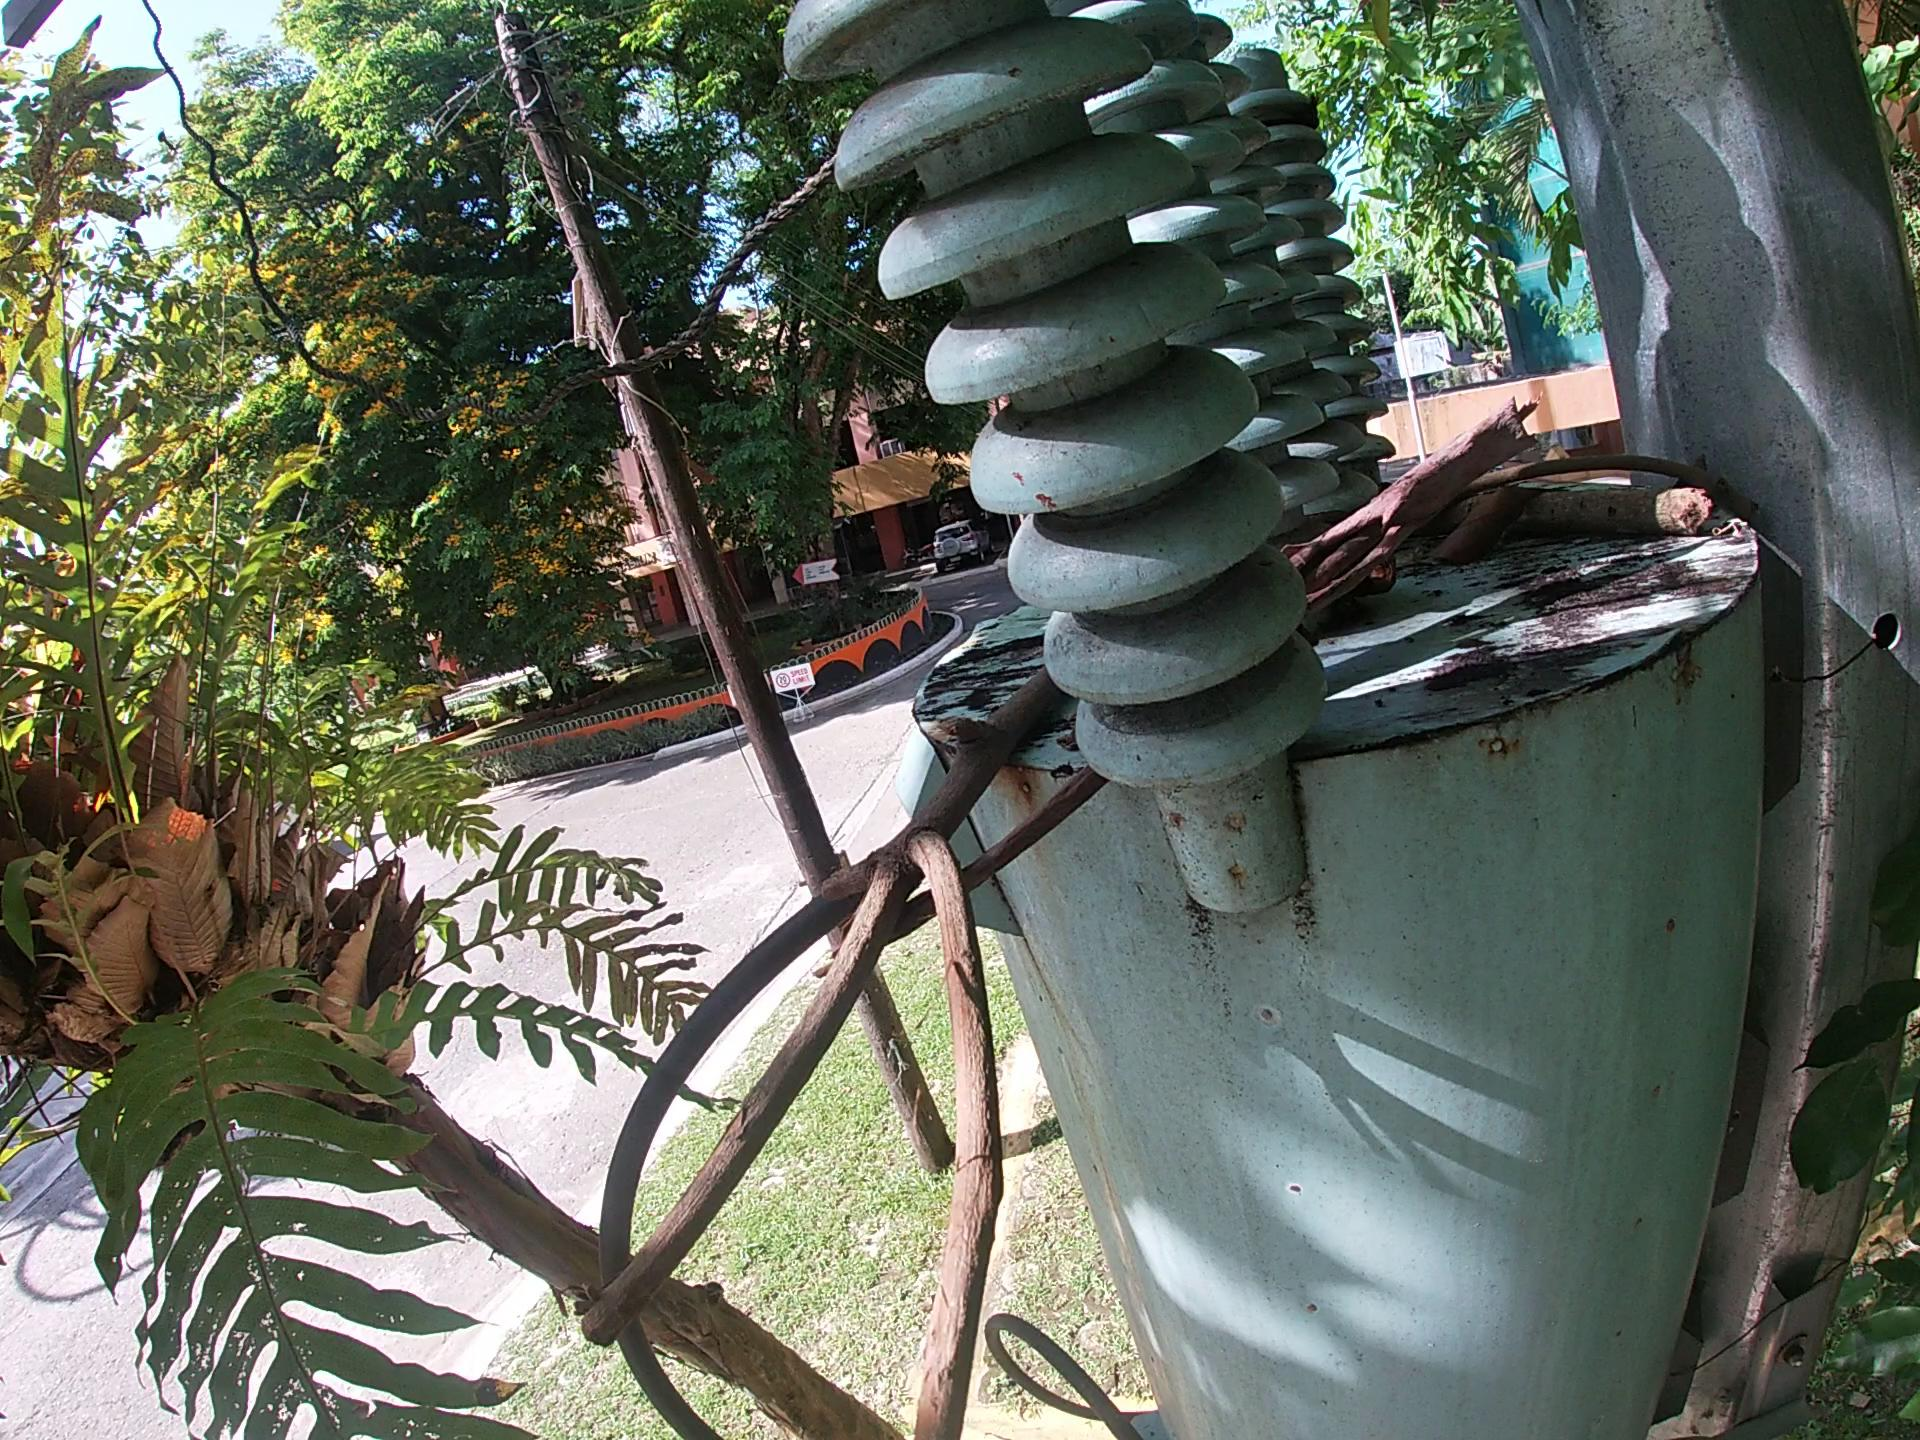leaf: (1423, 479, 1544, 575)
tree branch: (562, 656, 1072, 1440), (1287, 380, 1550, 632), (875, 761, 1113, 957), (1462, 446, 1763, 502), (1503, 478, 1711, 548)
